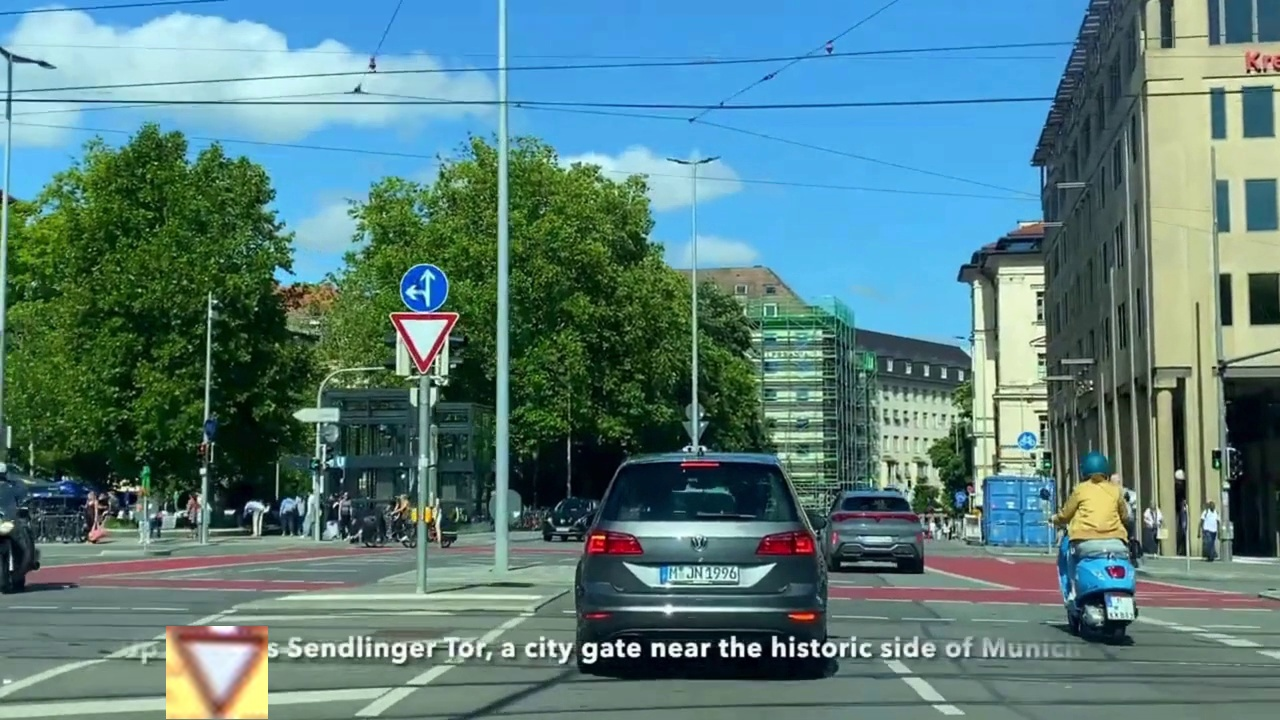Yield: (166, 626, 268, 719)
